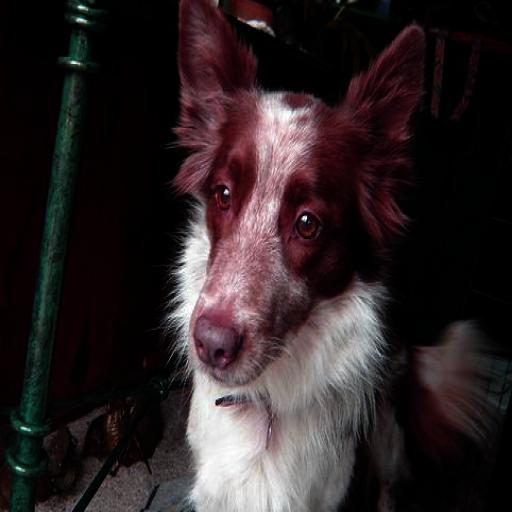dog_face: (175, 0, 420, 371)
